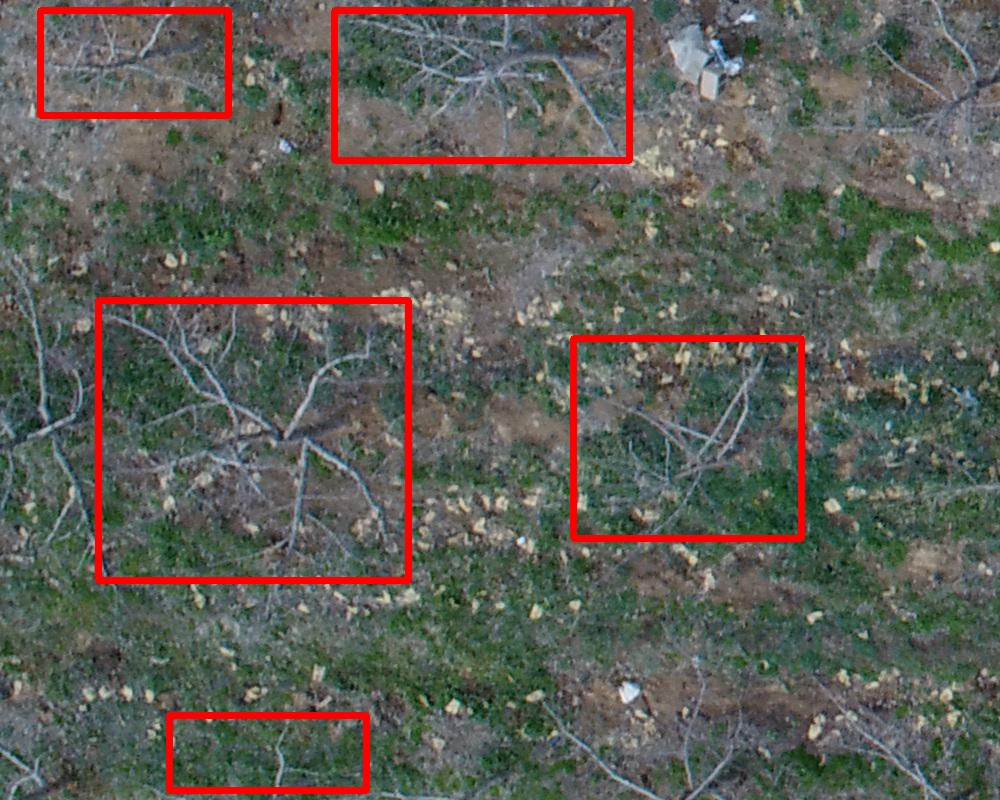apple: (98, 300, 408, 580), (573, 338, 801, 538), (334, 10, 629, 160), (40, 10, 228, 115), (169, 715, 366, 790)
